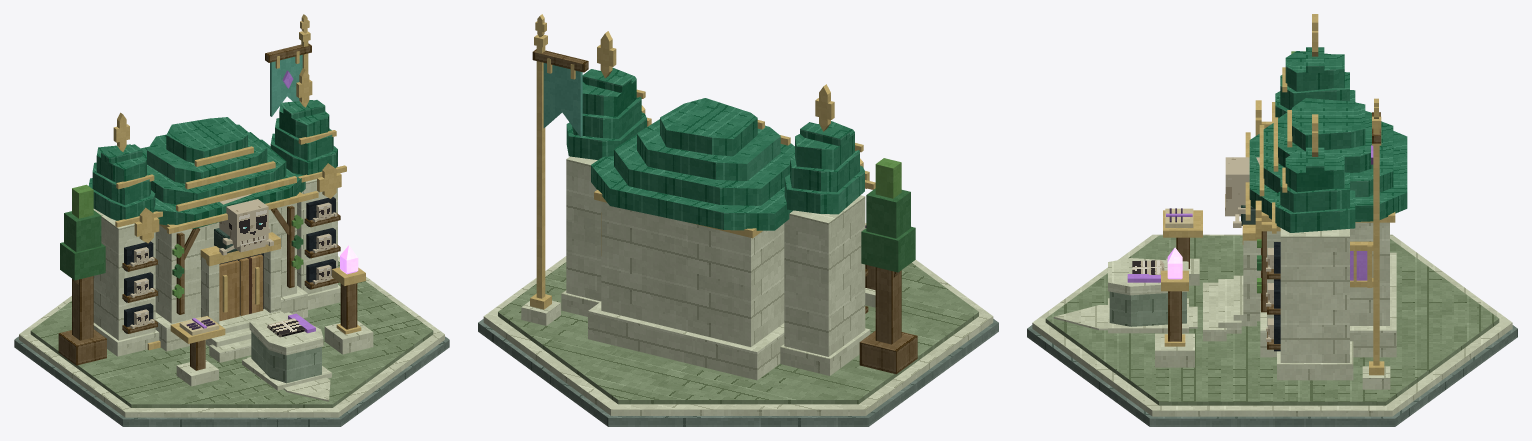
Rendered from elf_necromancy_ossuary_hex_v1.glb.
The picture shows the model from 3 angles, left to right: view 1: azimuth 30°, elevation 25°; view 2: azimuth 150°, elevation 25°; view 3: azimuth 270°, elevation 25°; orthographic projection. The views are drawn at different scales.
Visible parts, largest first — view 1: Elf_Necromancy_Ossuary_Hex_V1_Foundation, Elf_Necromancy_Ossuary_Hex_V1_Roofs, Elf_Necromancy_Ossuary_Hex_V1_Hall, Elf_Necromancy_Ossuary_Hex_V1_Focus, Elf_Necromancy_Ossuary_Hex_V1_Training, Elf_Necromancy_Ossuary_Hex_V1_Details, Elf_Necromancy_Ossuary_Hex_V1_Courtyard, Elf_Necromancy_Ossuary_Hex_V1_Faction; view 2: Elf_Necromancy_Ossuary_Hex_V1_Hall, Elf_Necromancy_Ossuary_Hex_V1_Foundation, Elf_Necromancy_Ossuary_Hex_V1_Roofs, Elf_Necromancy_Ossuary_Hex_V1_Focus, Elf_Necromancy_Ossuary_Hex_V1_Faction, Elf_Necromancy_Ossuary_Hex_V1_Details; view 3: Elf_Necromancy_Ossuary_Hex_V1_Foundation, Elf_Necromancy_Ossuary_Hex_V1_Roofs, Elf_Necromancy_Ossuary_Hex_V1_Hall, Elf_Necromancy_Ossuary_Hex_V1_Training, Elf_Necromancy_Ossuary_Hex_V1_Focus, Elf_Necromancy_Ossuary_Hex_V1_Courtyard, Elf_Necromancy_Ossuary_Hex_V1_Details, Elf_Necromancy_Ossuary_Hex_V1_Faction.
Part boxes in pixels (x1,y1,x2,y2): Elf_Necromancy_Ossuary_Hex_V1_Foundation: (14, 256, 449, 426); Elf_Necromancy_Ossuary_Hex_V1_Roofs: (88, 100, 346, 233); Elf_Necromancy_Ossuary_Hex_V1_Hall: (93, 179, 340, 356); Elf_Necromancy_Ossuary_Hex_V1_Focus: (58, 184, 373, 365); Elf_Necromancy_Ossuary_Hex_V1_Training: (147, 312, 331, 390); Elf_Necromancy_Ossuary_Hex_V1_Details: (113, 14, 341, 314); Elf_Necromancy_Ossuary_Hex_V1_Courtyard: (206, 309, 330, 401); Elf_Necromancy_Ossuary_Hex_V1_Faction: (265, 31, 311, 116); Elf_Necromancy_Ossuary_Hex_V1_Hall: (561, 156, 870, 380); Elf_Necromancy_Ossuary_Hex_V1_Foundation: (478, 223, 998, 426); Elf_Necromancy_Ossuary_Hex_V1_Roofs: (566, 68, 875, 238); Elf_Necromancy_Ossuary_Hex_V1_Focus: (859, 158, 917, 374); Elf_Necromancy_Ossuary_Hex_V1_Faction: (521, 34, 588, 325); Elf_Necromancy_Ossuary_Hex_V1_Details: (535, 14, 869, 255); Elf_Necromancy_Ossuary_Hex_V1_Foundation: (1027, 234, 1517, 426); Elf_Necromancy_Ossuary_Hex_V1_Roofs: (1245, 47, 1407, 233); Elf_Necromancy_Ossuary_Hex_V1_Hall: (1242, 222, 1396, 380); Elf_Necromancy_Ossuary_Hex_V1_Training: (1108, 208, 1202, 333); Elf_Necromancy_Ossuary_Hex_V1_Focus: (1155, 51, 1305, 367); Elf_Necromancy_Ossuary_Hex_V1_Courtyard: (1053, 275, 1256, 341); Elf_Necromancy_Ossuary_Hex_V1_Details: (1255, 14, 1378, 312); Elf_Necromancy_Ossuary_Hex_V1_Faction: (1362, 112, 1390, 389).
Size of the model in its own units: 1.59 by 1.26 by 1.84.
1 material, 1 textured.
